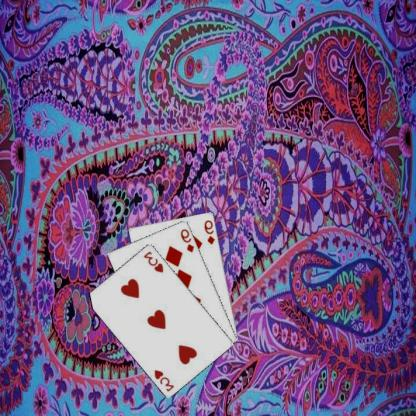3H: (153, 367, 177, 393), (142, 249, 166, 274)
9D: (179, 226, 197, 254), (203, 218, 218, 245)
